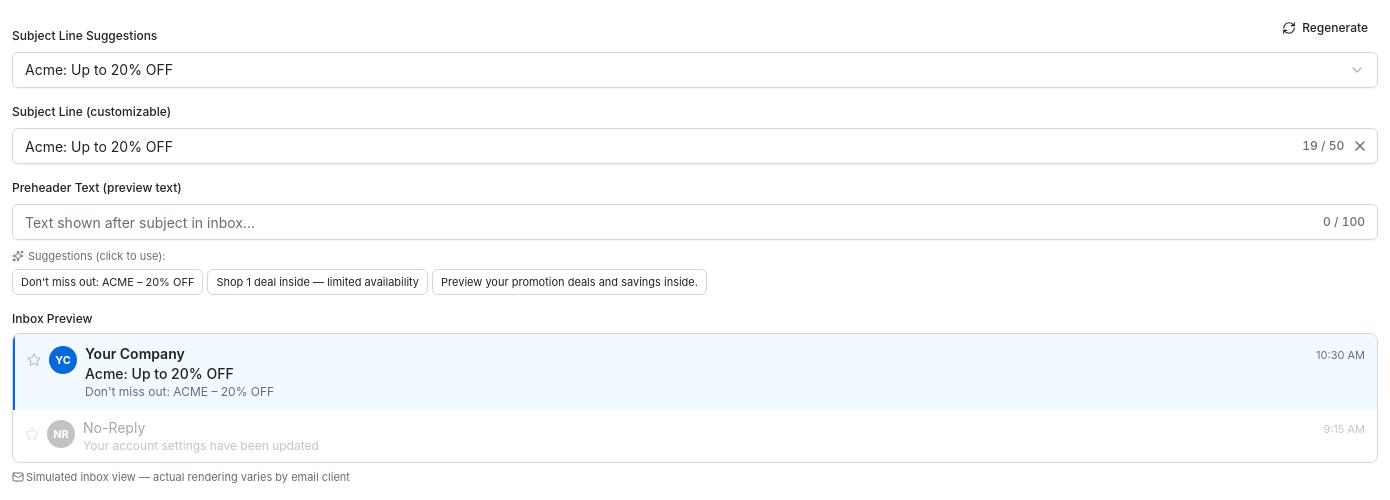
SubjectLineGenerator › updates subject line when input is edited
Clear the field showing "Acme: Up to 20% OFF": (658, 146) [13, 129, 1302, 163]
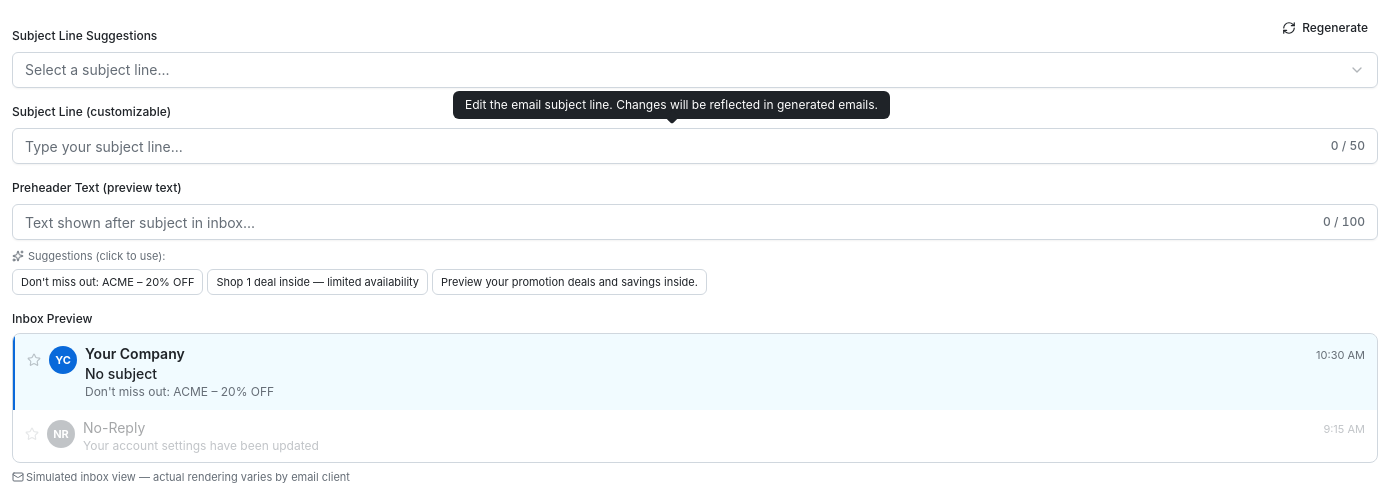
In the field showing "Acme: Up to 20% OFF": (672, 146) [13, 129, 1331, 163], type "My Custom Subject"
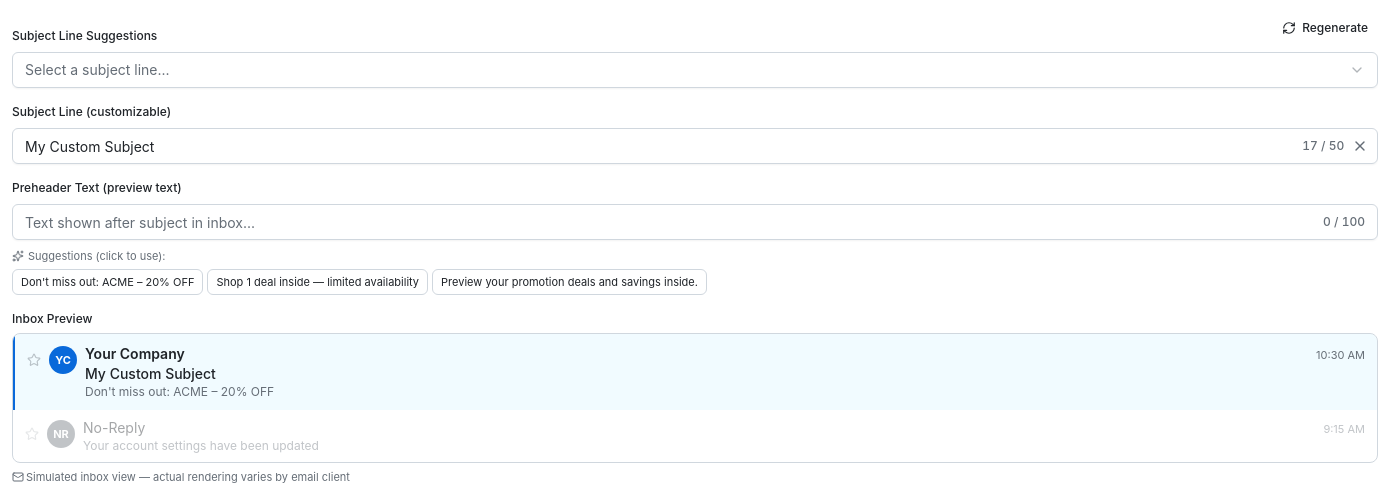
Check: the text "My Custom Subject" is shown, box [85, 365, 216, 382]
